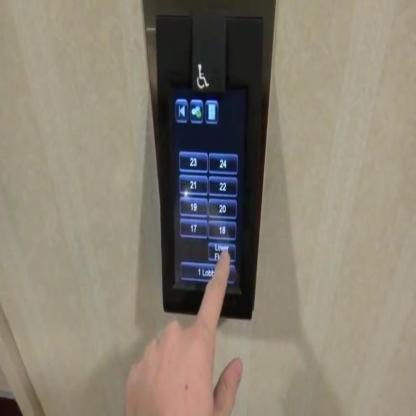17: (178, 218, 212, 236)
18: (209, 220, 239, 240)
19: (178, 193, 208, 218)
20: (208, 196, 237, 216)
21: (178, 173, 208, 195)
22: (208, 173, 238, 196)
23: (178, 149, 208, 173)
24: (209, 148, 239, 174)
CH: (192, 57, 214, 92)
unknown: (204, 94, 220, 127), (190, 95, 203, 125), (175, 96, 187, 127)
